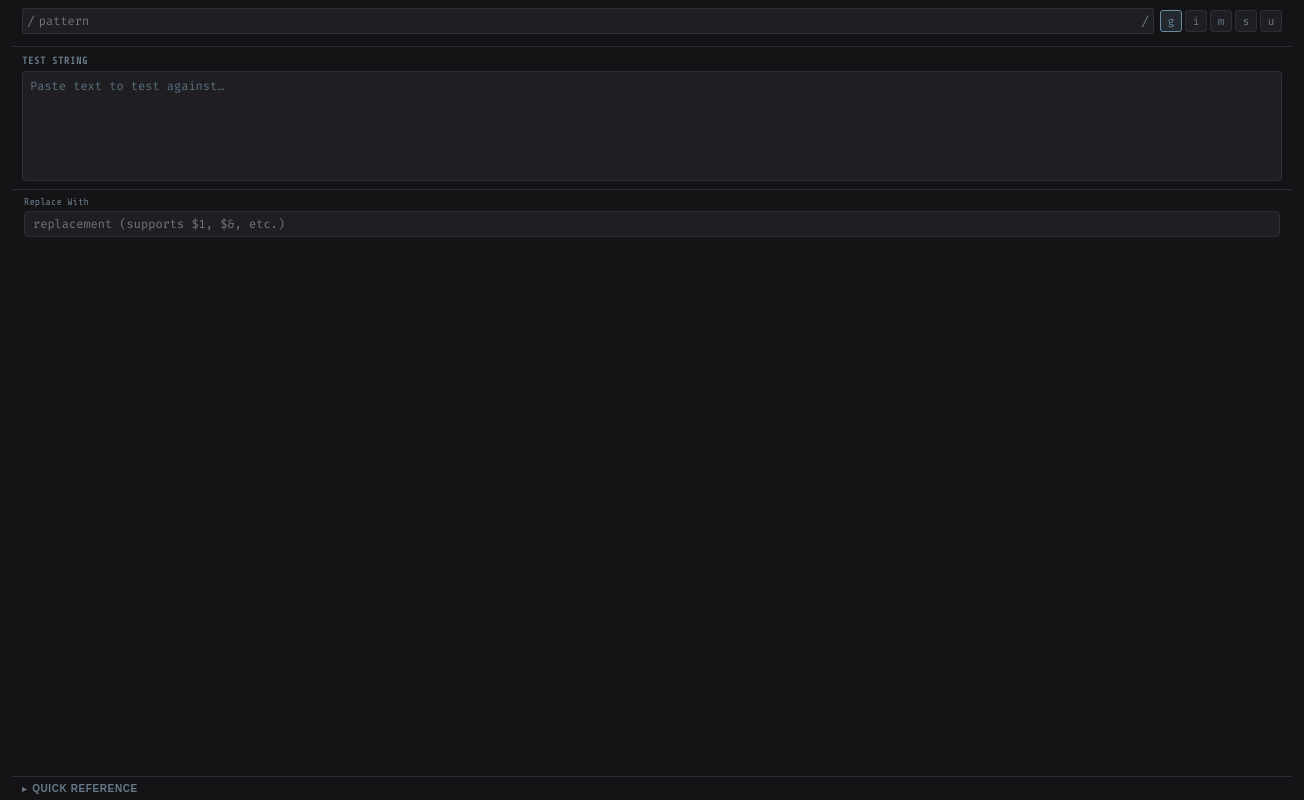
it: RegexPanel › shows match count when pattern matches
This screenshot has width=1304, height=800.
Type "\\w+" into the field labelled "pattern" at x=588, y=21, box left=39, top=9, right=1137, bottom=33
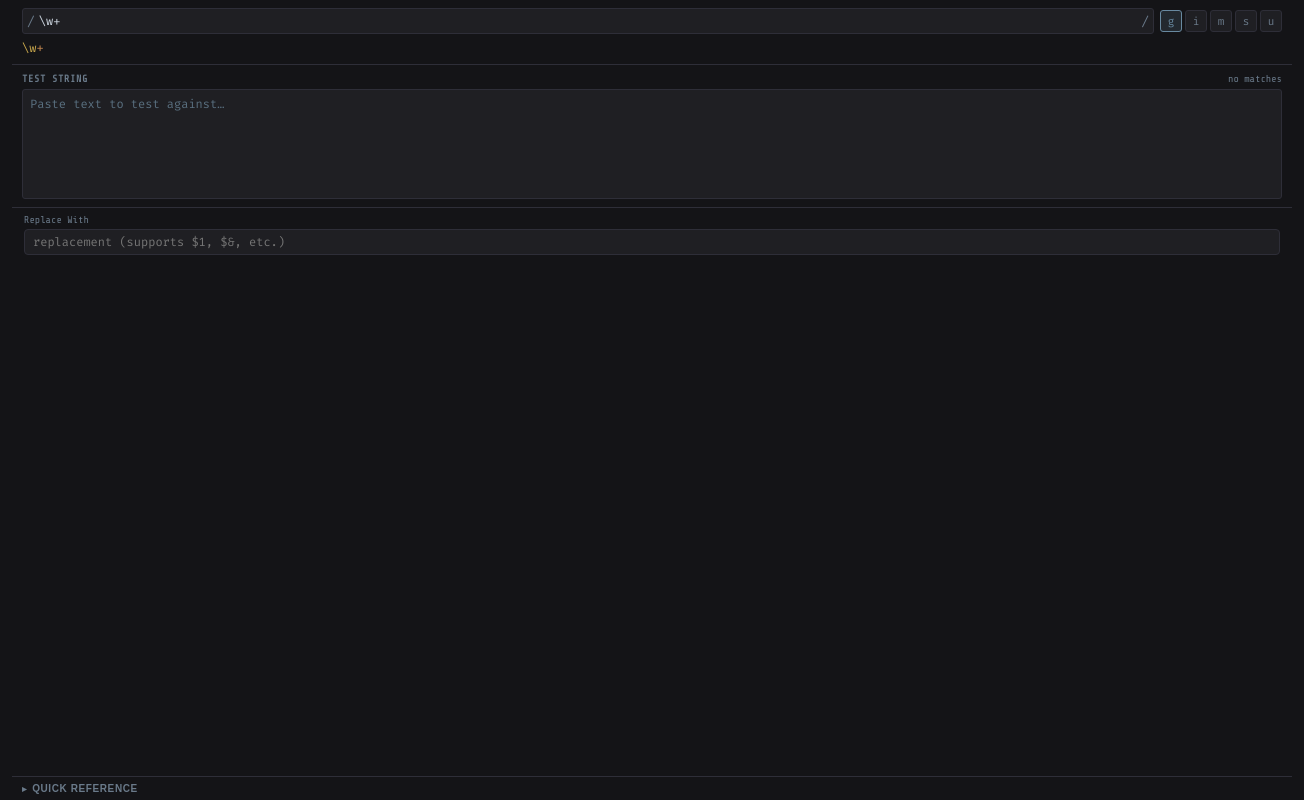
Type "hello world" into the text box named "test string" at x=652, y=144, box left=23, top=90, right=1281, bottom=198
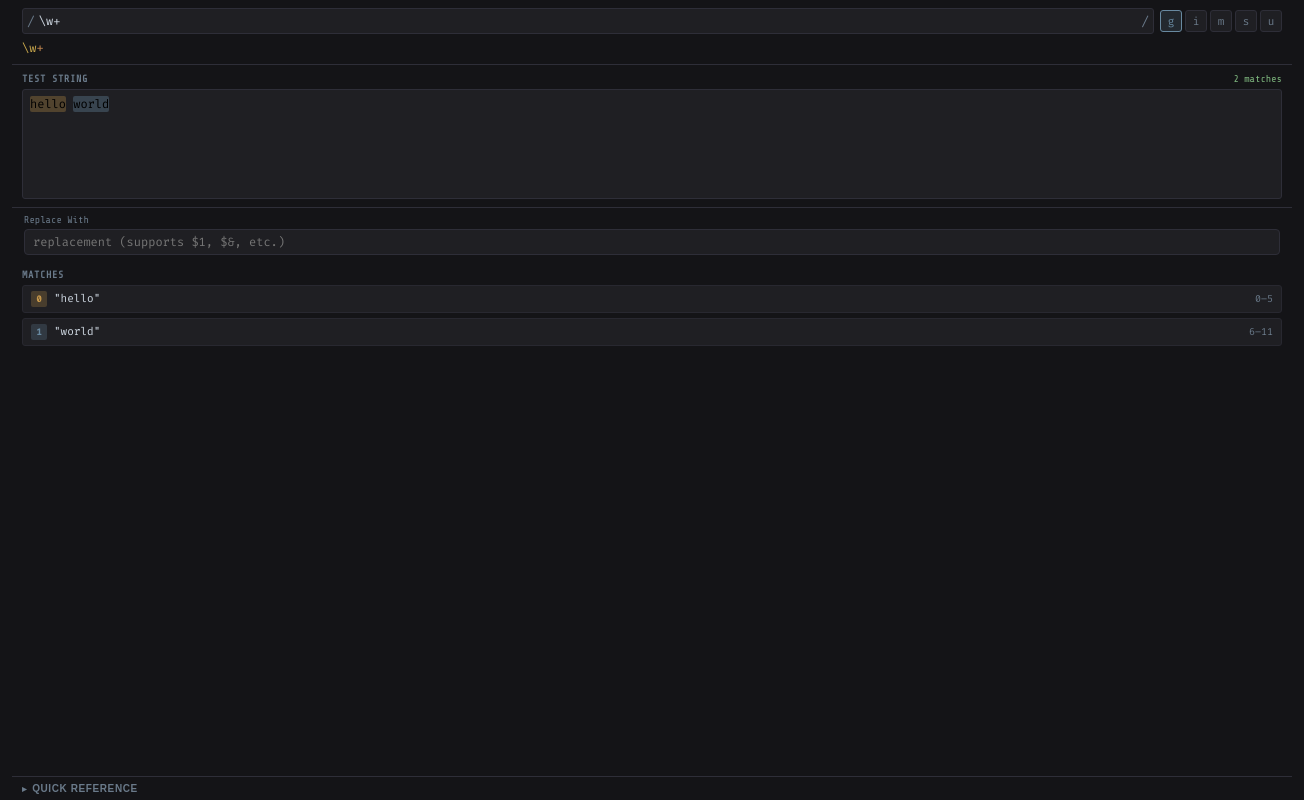
Result: the text "2 matches" is shown at left=1233, top=73, right=1282, bottom=84
